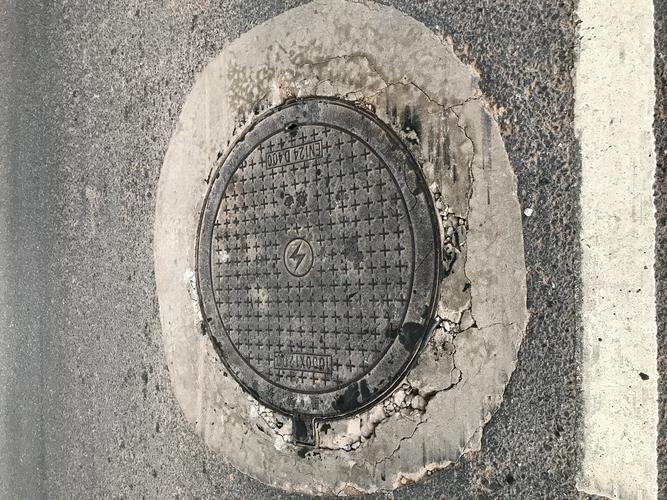circle: (156, 13, 526, 490)
